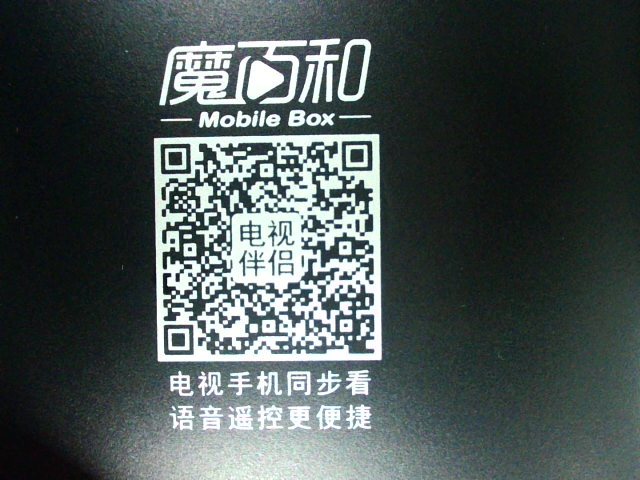AZ_MobileBox: (145, 30, 390, 434)
